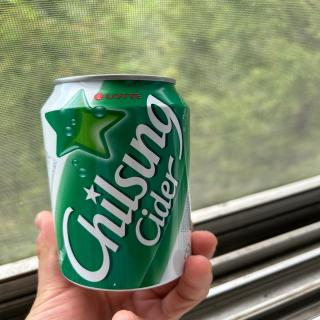cocacola: (39, 72, 191, 293)
